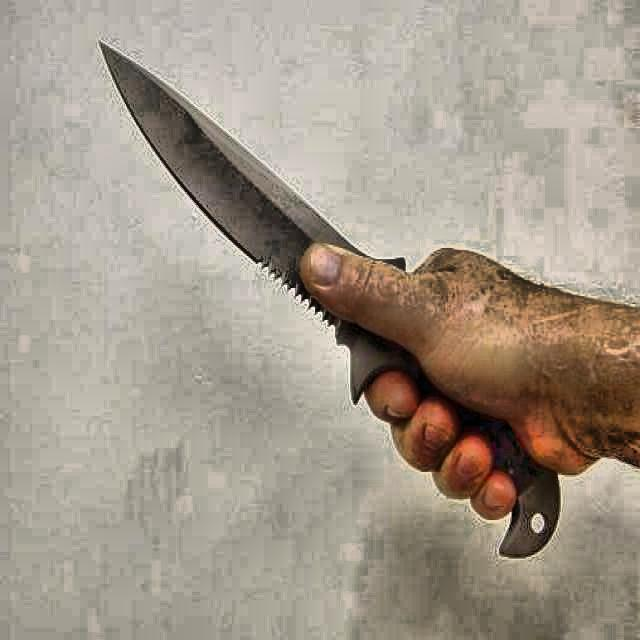knife: (100, 40, 560, 557)
